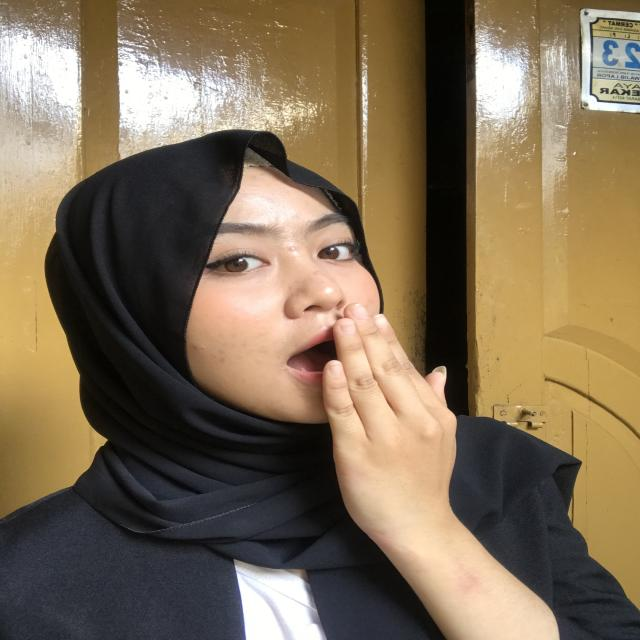ngantuk: (270, 290, 516, 541)
